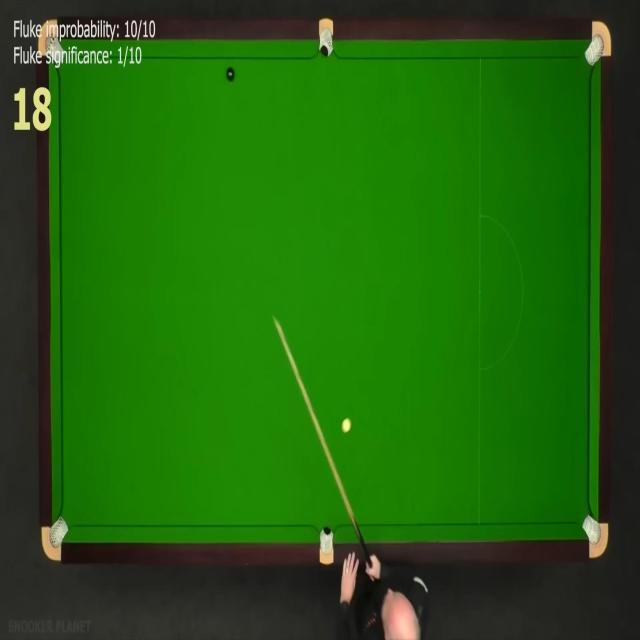Ball: (226, 66, 236, 82), (342, 420, 352, 432)
